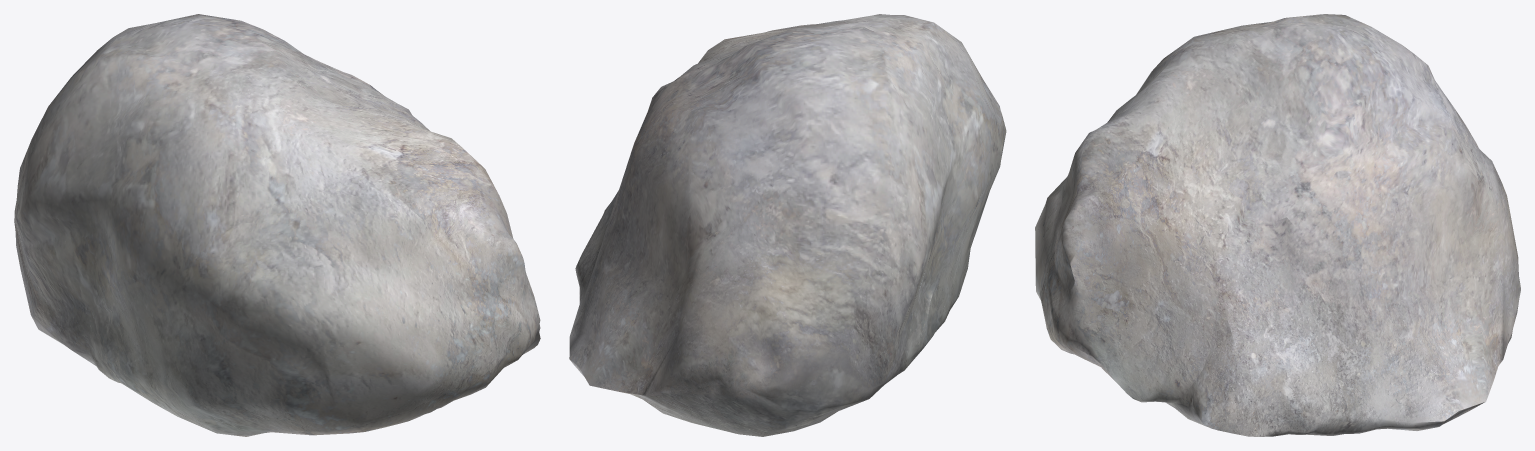
File: rock_00B_2k.fbx
3 views of the same model, side by side, from view 1: azimuth 30°, elevation 25°; view 2: azimuth 150°, elevation 25°; view 3: azimuth 270°, elevation 25° (orthographic). The views are drawn at different scales.
Visible parts, largest first — view 1: rock_00B_2k; view 2: rock_00B_2k; view 3: rock_00B_2k.
Boxes of the visible parts, x1,y1,x2,y2 form: rock_00B_2k: (14,14,540,436); rock_00B_2k: (569,14,1006,436); rock_00B_2k: (1035,14,1520,436).
Size of the model in its own units: 235 by 210 by 266.
